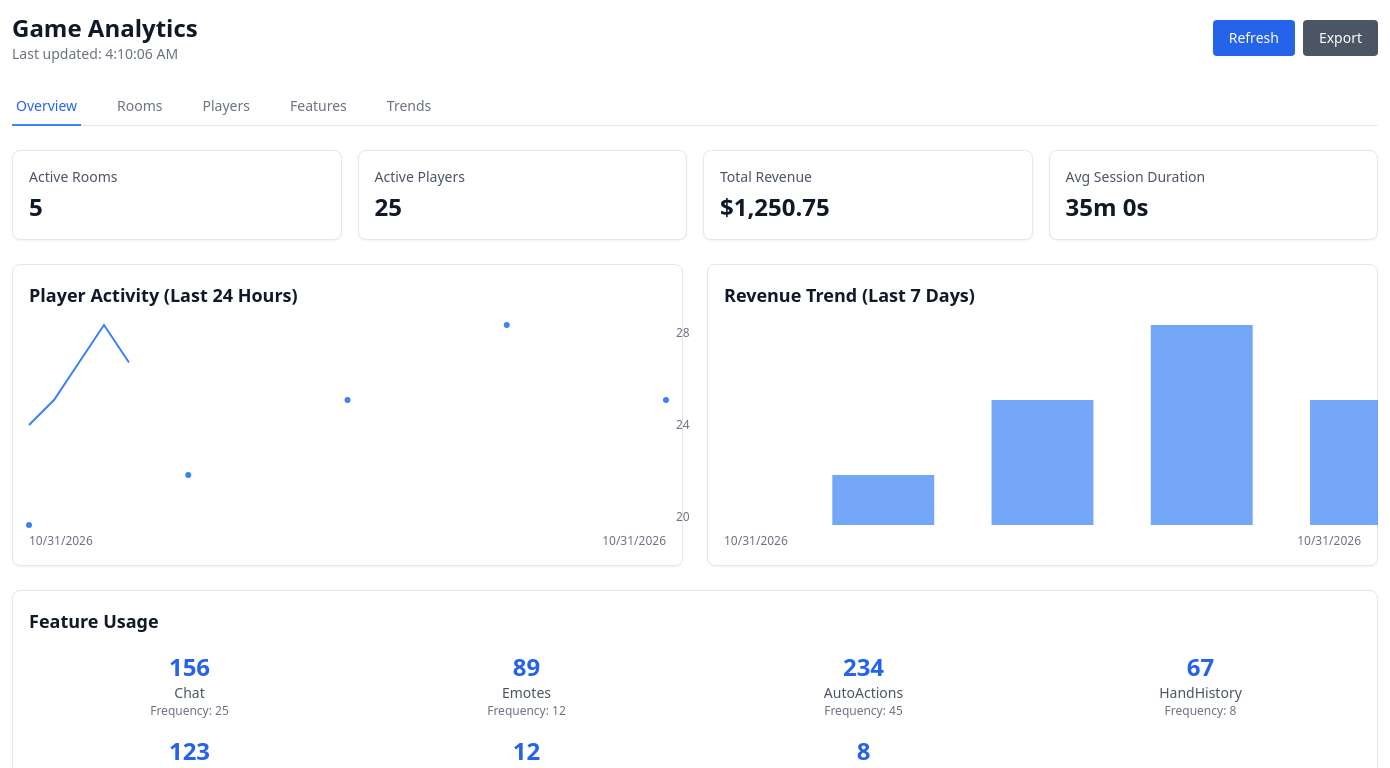
Test: GameAnalyticsDashboard › Tab Navigation › should switch between tabs when clicked
Expected: the text "Active Rooms" is shown, [29,167,117,186]
// Click Players tab
Step 1. Click the button "Players" → (226,107), box [198,88,254,126]
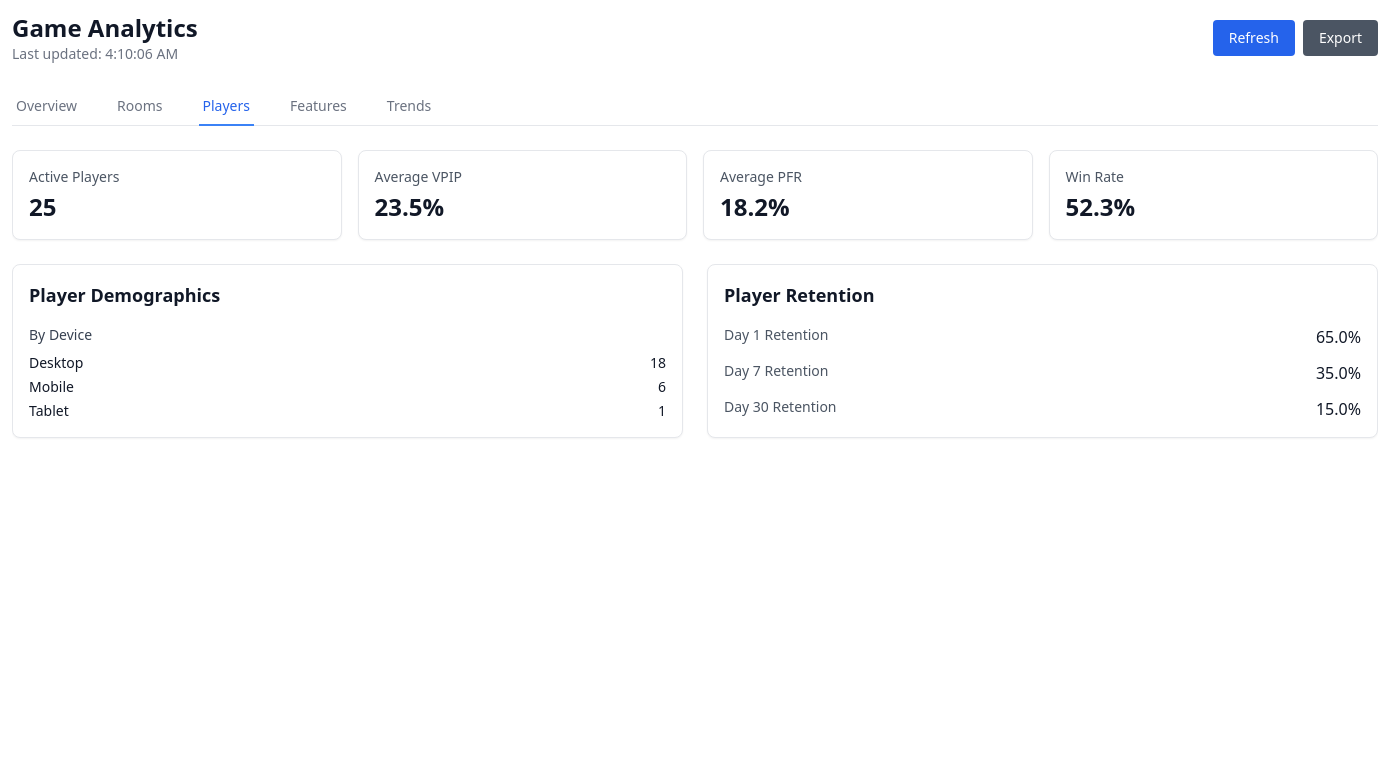
Expected: the text "Average VPIP" is shown, [374,167,462,186]
// Click Features tab
Step 2. Click the button "Features" → (318,107), box [286,88,351,126]
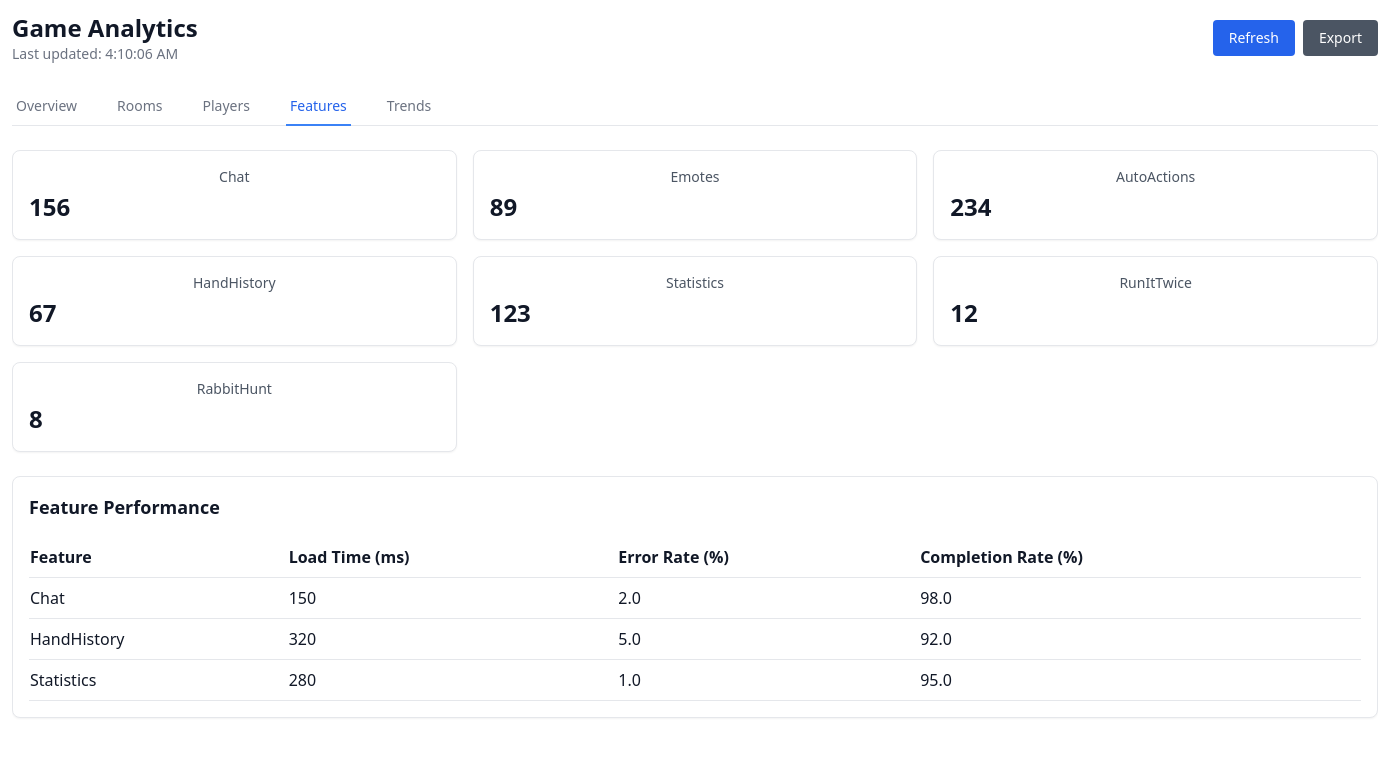
Expected: the heading "Feature Performance" is shown, [29,495,220,519]
// Click Trends tab
Step 3. Click the button "Trends" → (409,107), box [383,88,435,126]
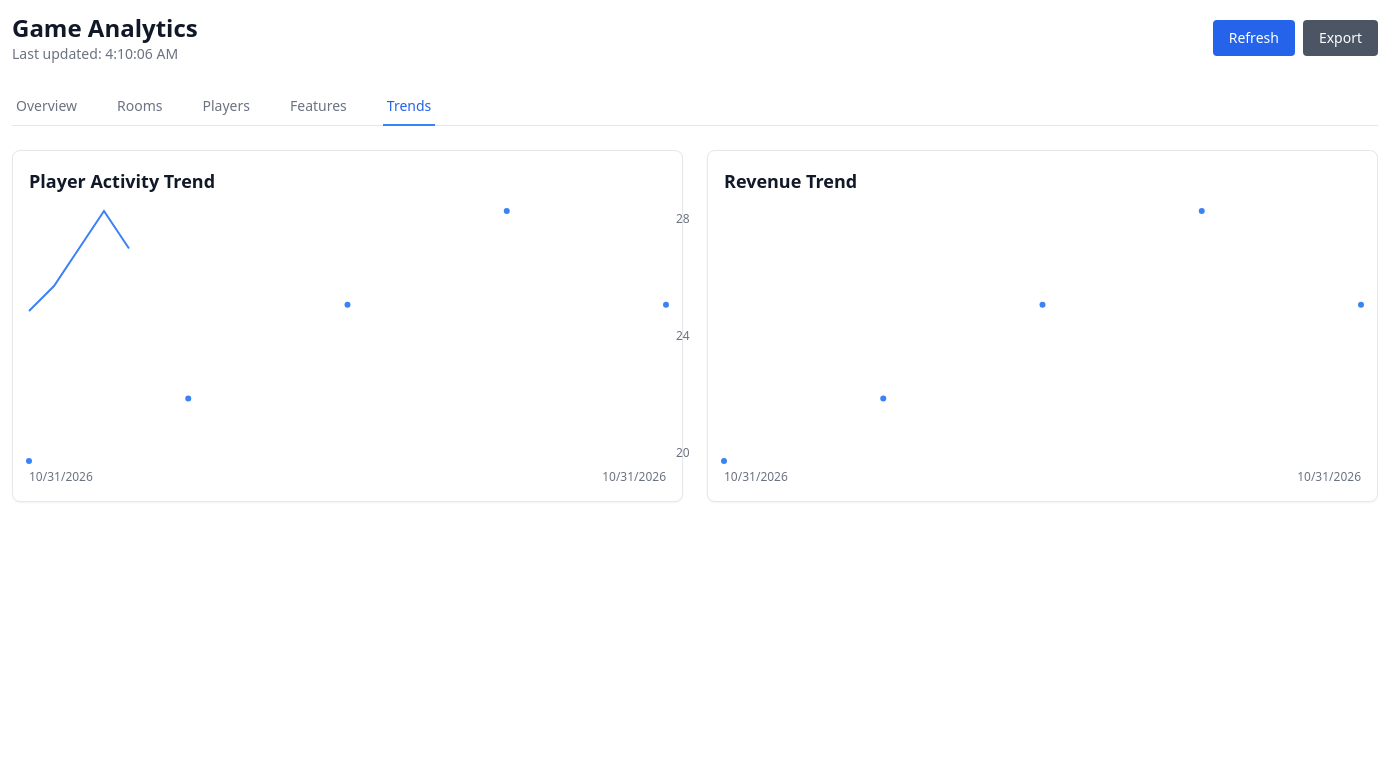
Expected: the heading "Player Activity Trend" is shown, [29,169,215,193]
